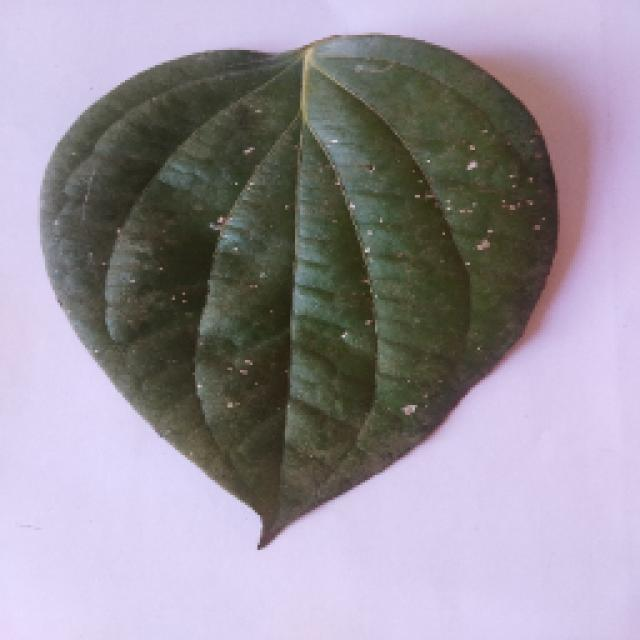pollu-disease: (38, 32, 550, 548)
